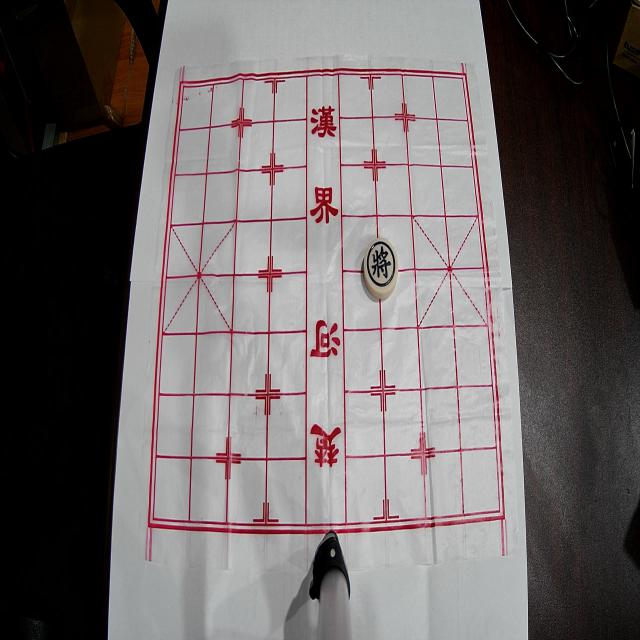black-general: (364, 238, 398, 300)
